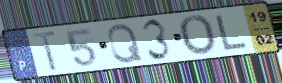3: (139, 17, 174, 62)
5: (62, 26, 100, 68)
L: (215, 13, 251, 52)
O: (177, 13, 219, 57)
Q: (106, 22, 145, 65)
T: (31, 29, 60, 73)
